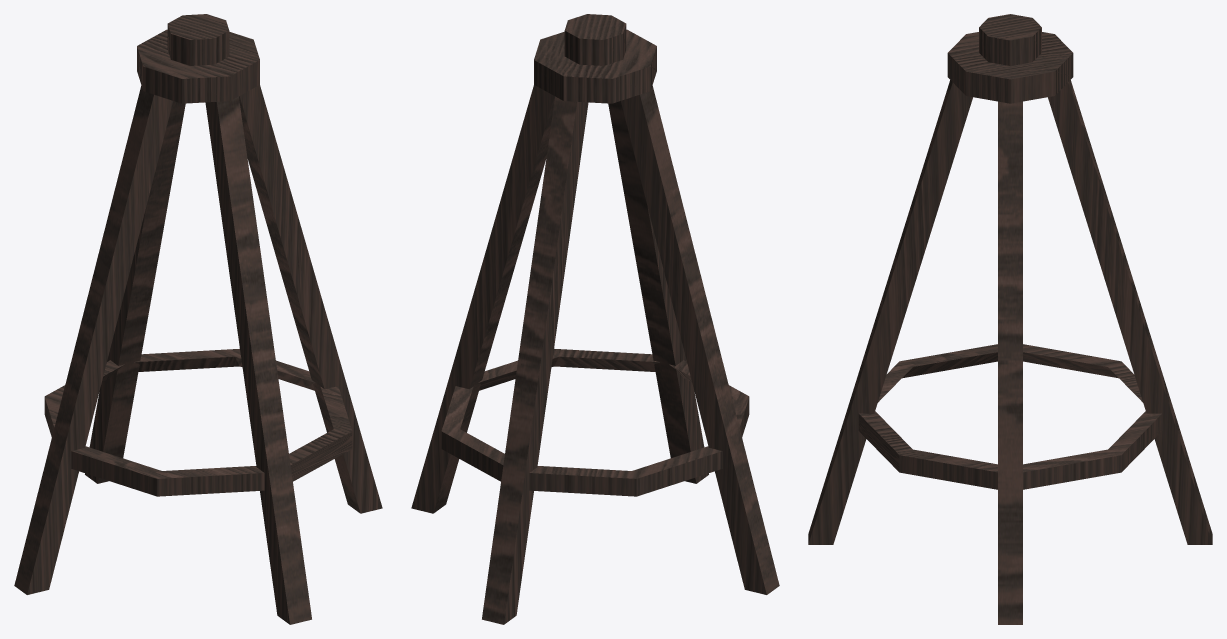
Rendered from torch_stand.glb.
The picture shows the model from 3 angles, left to right: view 1: azimuth 30°, elevation 25°; view 2: azimuth 150°, elevation 25°; view 3: azimuth 270°, elevation 25°; orthographic projection.
Parts seen in each view (by area): view 1: Cylinder.003; view 2: Cylinder.003; view 3: Cylinder.003.
Part boxes in pixels (bbox=[...]): Cylinder.003: bbox=[14, 14, 382, 624]; Cylinder.003: bbox=[411, 14, 779, 624]; Cylinder.003: bbox=[808, 14, 1212, 624].
Size of the model in its own units: 0.644 by 0.9 by 0.644.
1 material, 1 textured.
